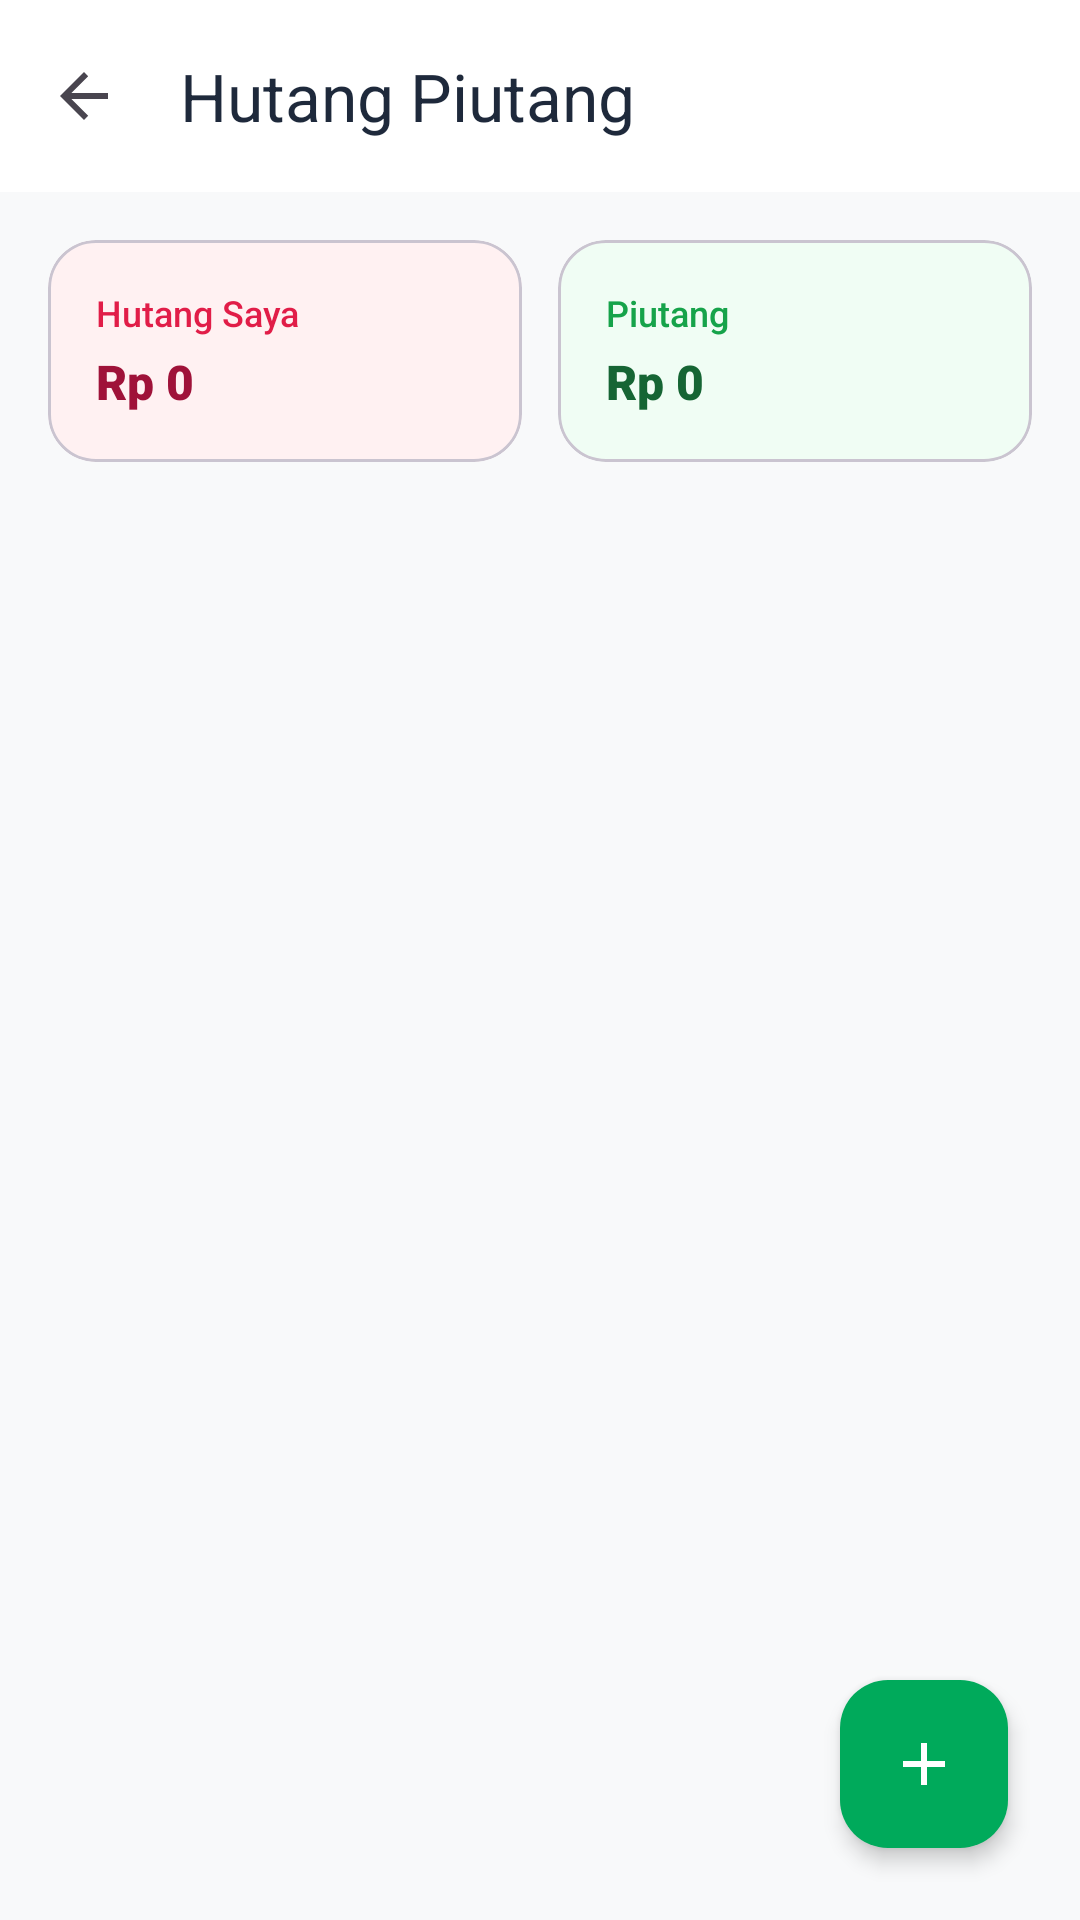

Icon click points for this 1080px×1920px phone screenshot, format [x,y]:
Add Debt: [924,1764]
